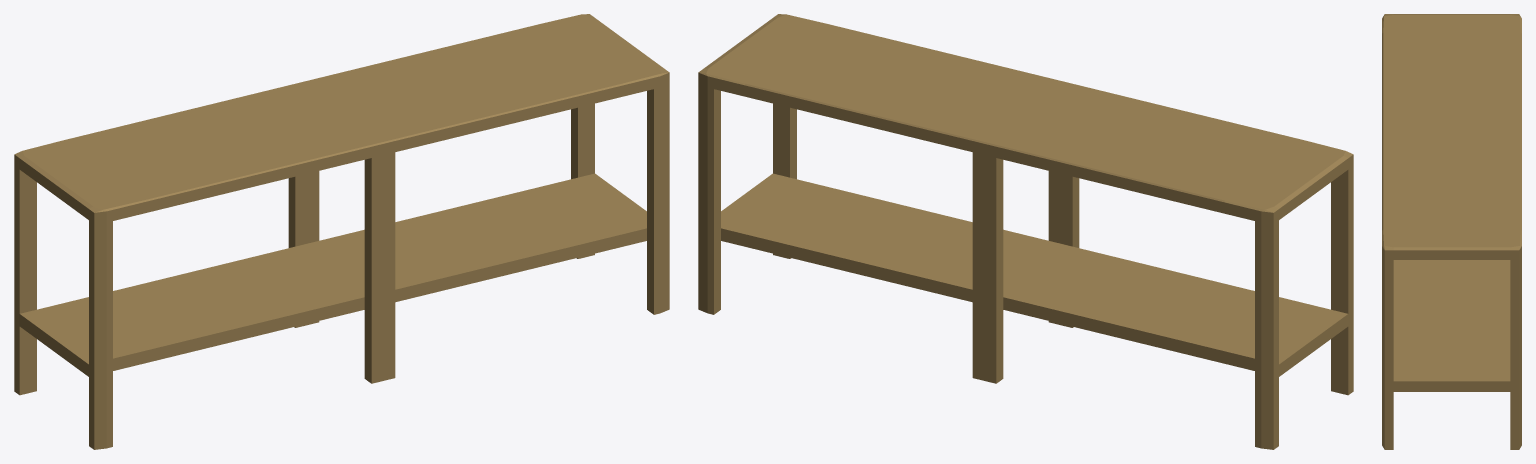
File: Large Shelf.fbx
3 renders of one model, left to right at view 1: azimuth 30°, elevation 25°; view 2: azimuth 150°, elevation 25°; view 3: azimuth 270°, elevation 25°, orthographic. The views are drawn at different scales.
Parts seen in each view (by area): view 1: Large Shelf; view 2: Large Shelf; view 3: Large Shelf.
Part boxes in pixels (x1,y1,x2,y2): Large Shelf: (14, 14, 669, 449); Large Shelf: (698, 14, 1353, 449); Large Shelf: (1382, 14, 1521, 449).
Bounding box in the file's own units: 244 × 96.52 × 60.96.
